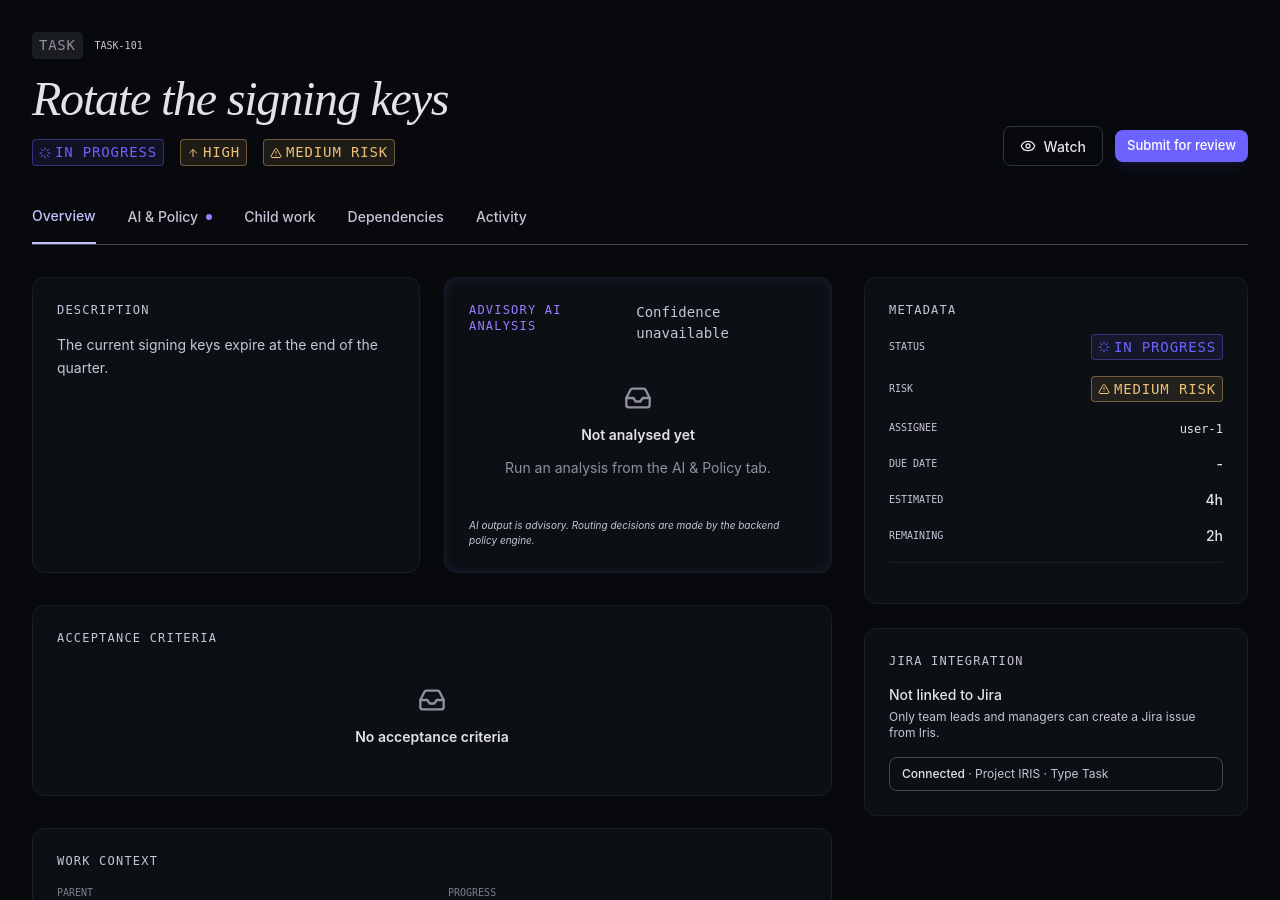
Test case: WorkItemDetailPage › clarification questions › shows the pending state on the submit button while the request is in flight
Click the tab "AI & Policy".
click(170, 225)  # box x1=128 y1=207 x2=212 y2=243
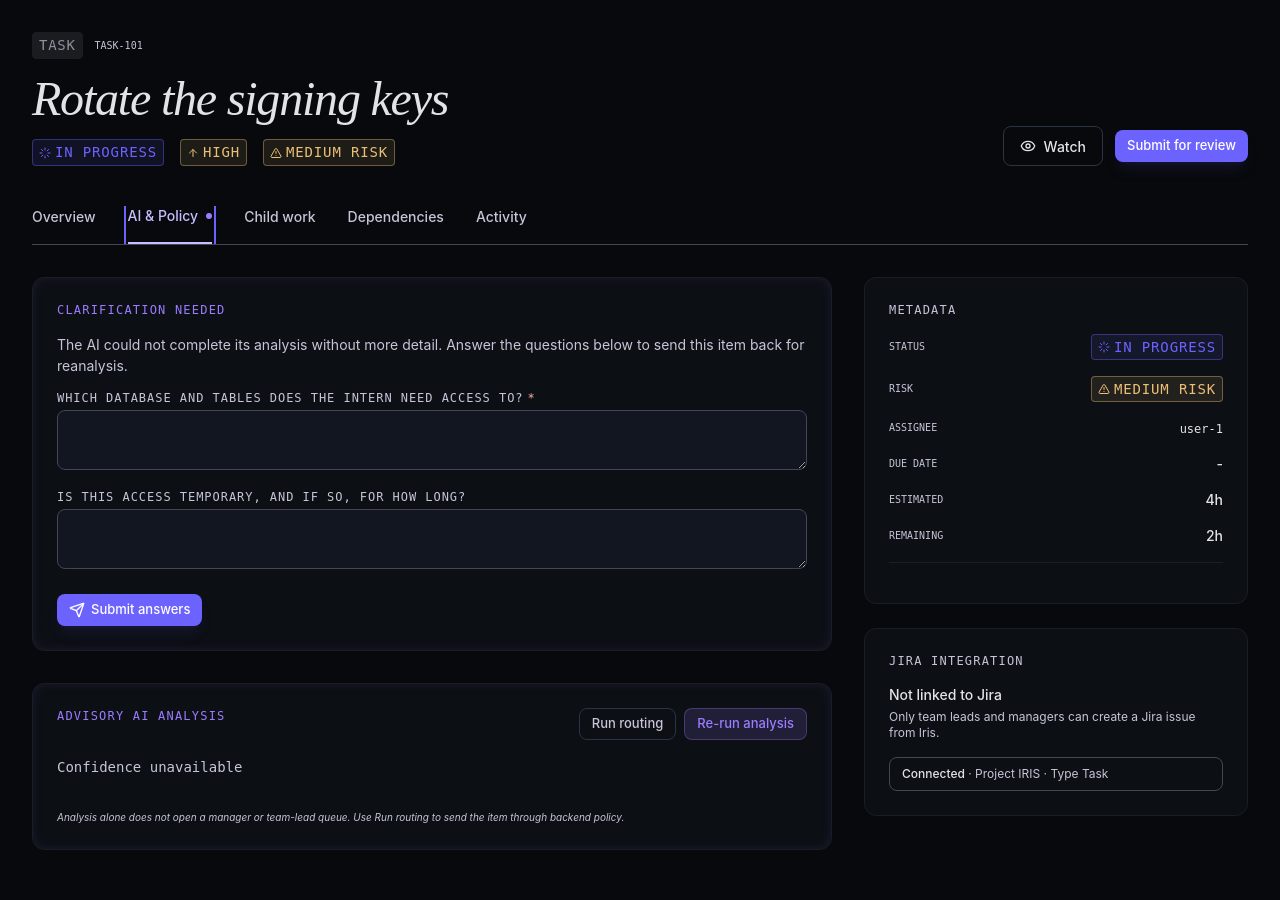
expect the heading "Clarification needed" is shown: met, box x1=57 y1=302 x2=226 y2=318
Type "Anything, just to pass validation." into the text box labelled "Which database and tables does the intern need access to?*".
click(432, 440); type("Anything, just to pass validation.")  # box x1=57 y1=410 x2=807 y2=470
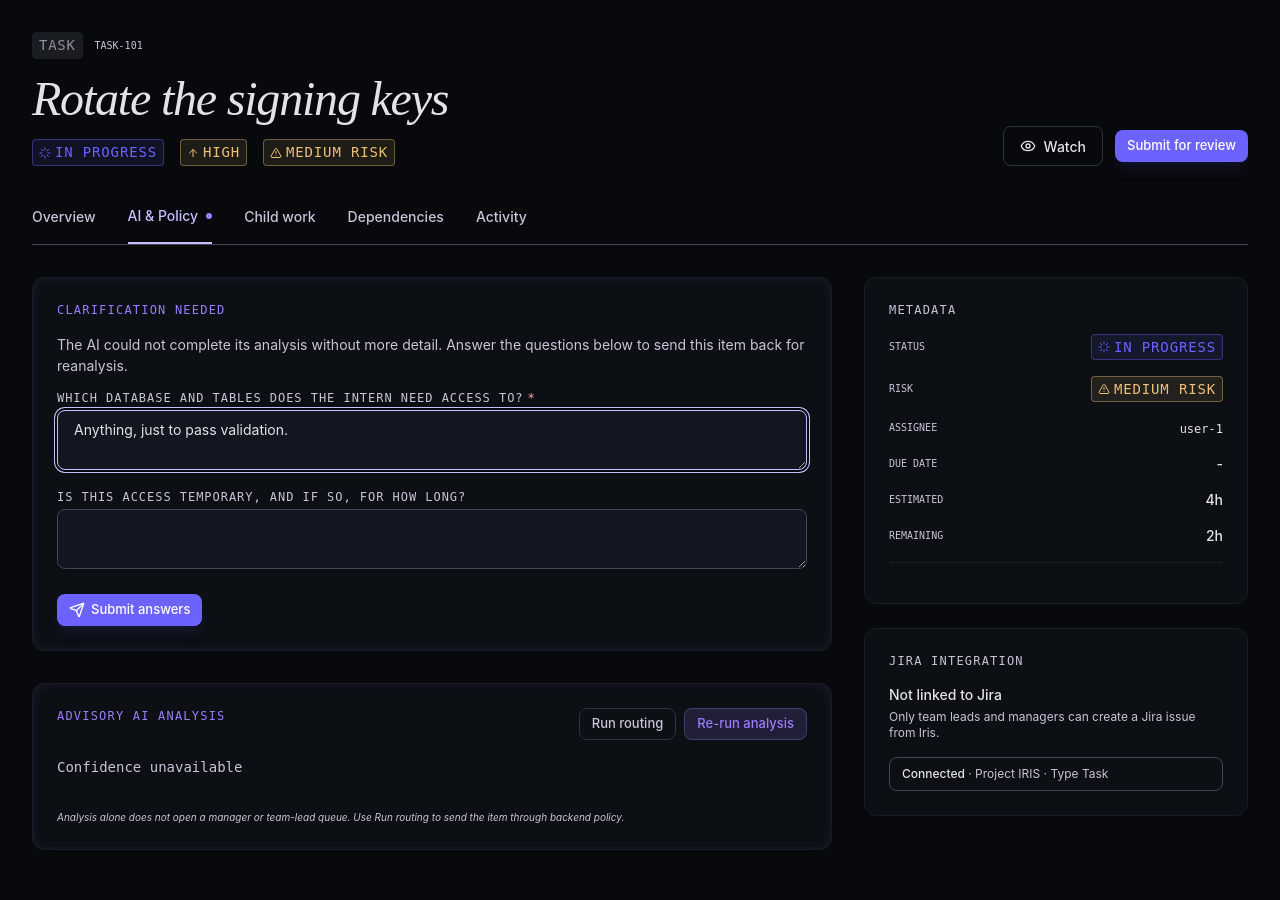
Click the button "Submit answers".
click(130, 610)  # box x1=57 y1=594 x2=202 y2=626
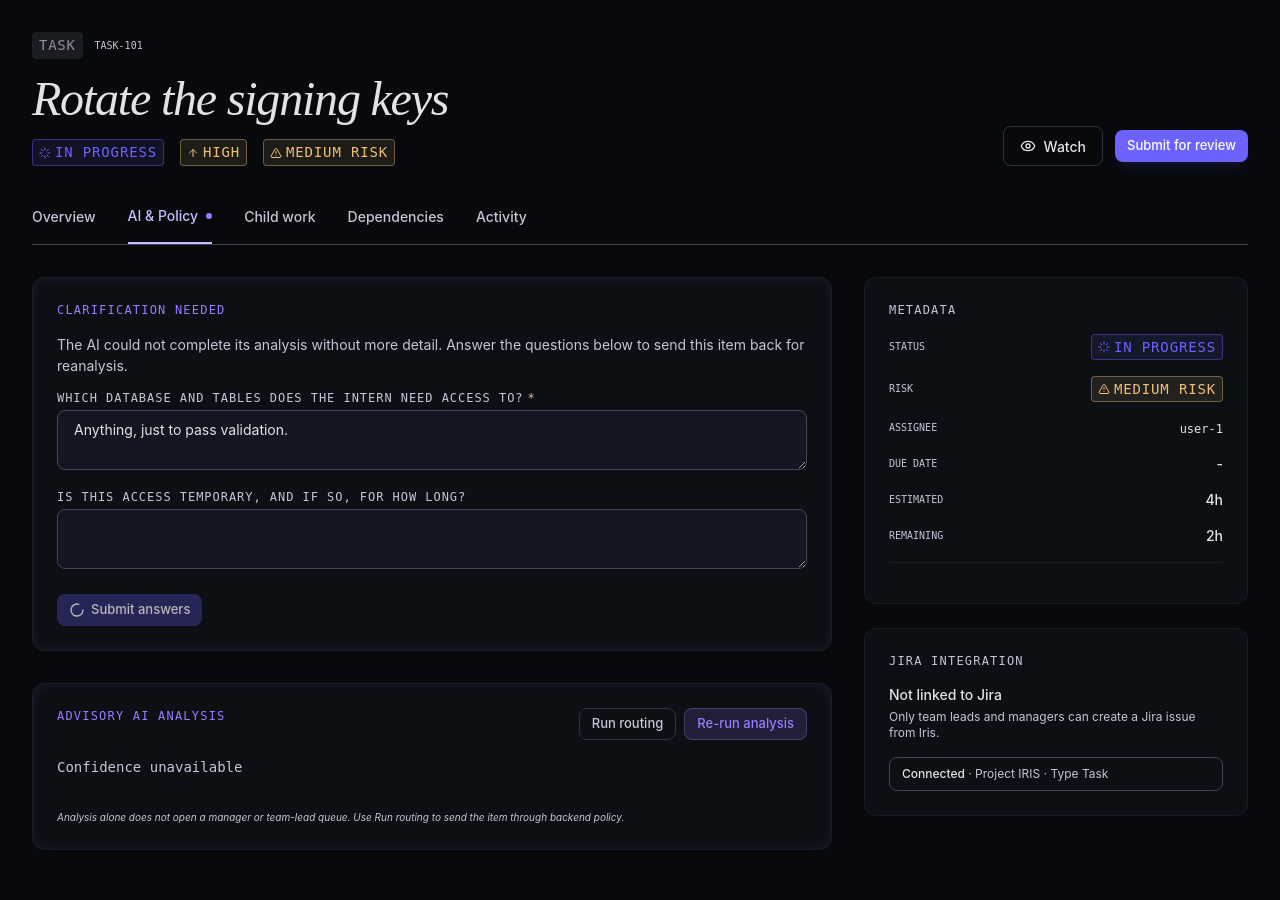
expect the button "Submit answers" is disabled: met, box x1=57 y1=594 x2=202 y2=626
